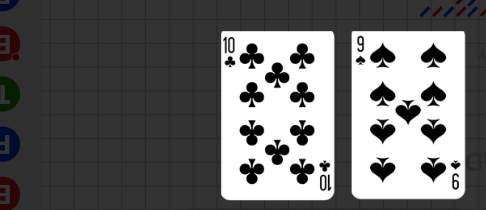10C: (223, 35, 238, 70)
9S: (354, 34, 367, 67)
